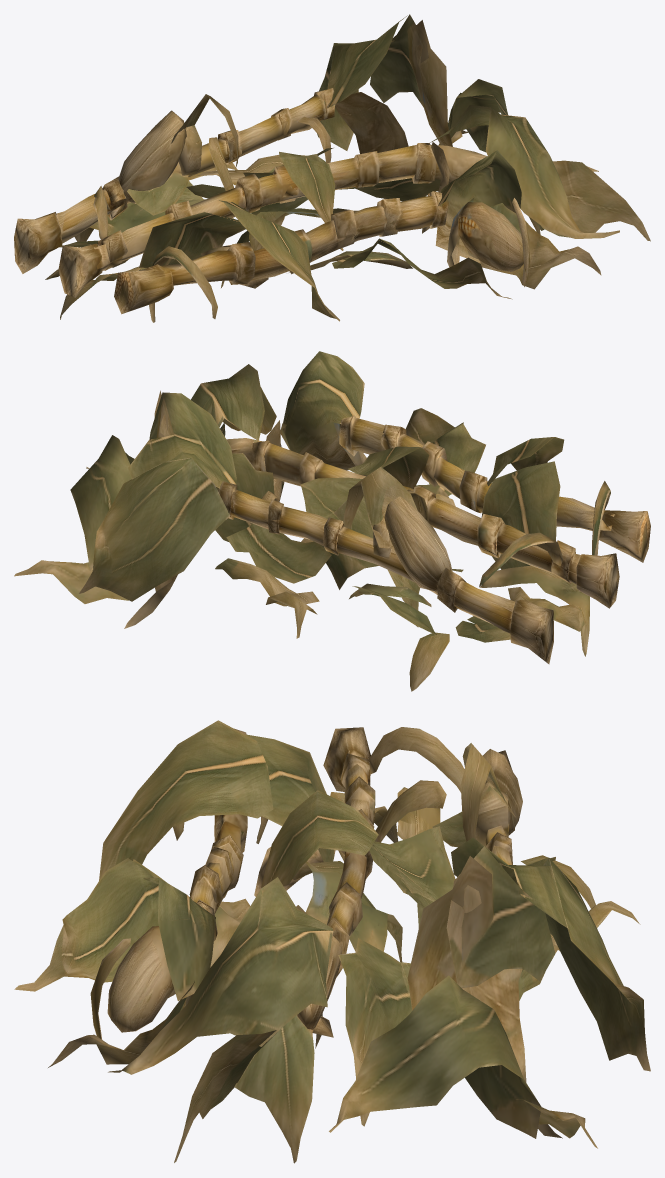
The model's file is fallen-corn-stalk-cluster-stubble-end.glb.
3 renders of one model, top to bottom at view 1: azimuth 30°, elevation 25°; view 2: azimuth 150°, elevation 25°; view 3: azimuth 270°, elevation 25°, orthographic. The views are drawn at different scales.
Parts seen in each view (by area): view 1: fallen-corn-stalk-cluster-stubble-end; view 2: fallen-corn-stalk-cluster-stubble-end; view 3: fallen-corn-stalk-cluster-stubble-end.
Boxes of the visible parts, x1,y1,x2,y2 form: fallen-corn-stalk-cluster-stubble-end: (14,14,650,322); fallen-corn-stalk-cluster-stubble-end: (14,351,650,691); fallen-corn-stalk-cluster-stubble-end: (14,720,650,1163).
Bounding box in the file's own units: 0.7905 × 0.306 × 0.6161.
Materials: 1 (1 with a texture image).
